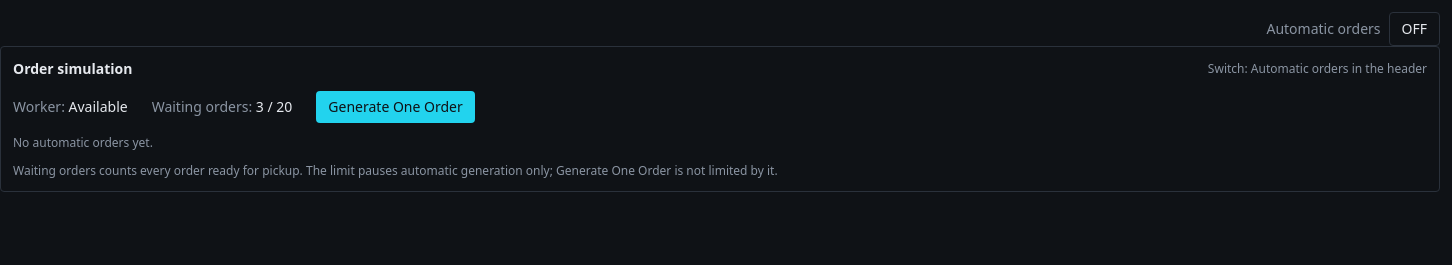
Test: OrderSimulationPanel › keeps the last status and says it may be out of date when a refresh fails
Click the button "Generate One Order" at point(396, 107), box [316, 91, 475, 123]
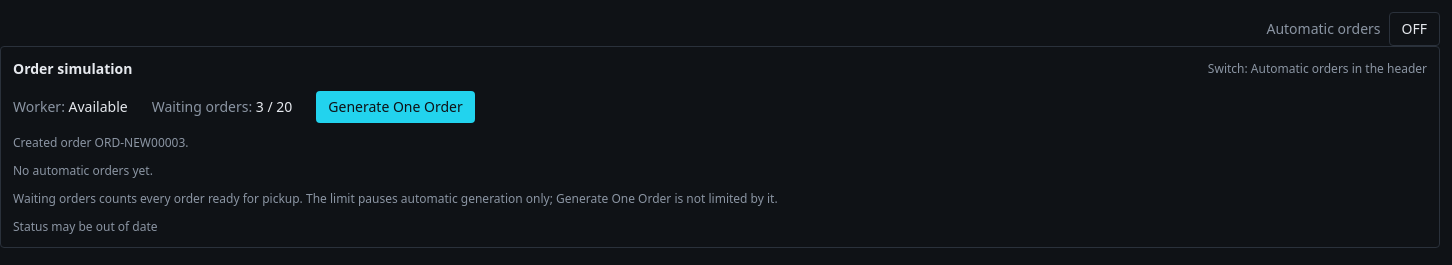
Expected: the text "Status may be out of date" is shown, [13, 218, 158, 235]
